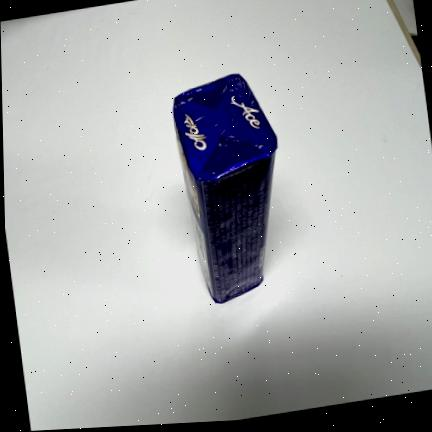cracker_ace: (174, 71, 277, 304)
